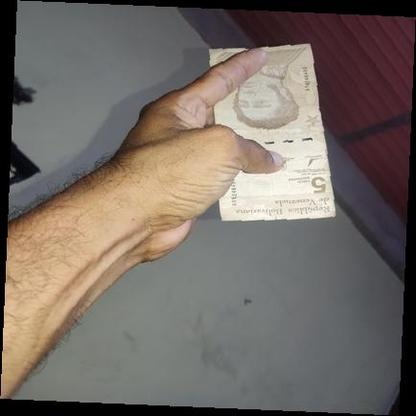vef_front: (208, 42, 335, 220)
